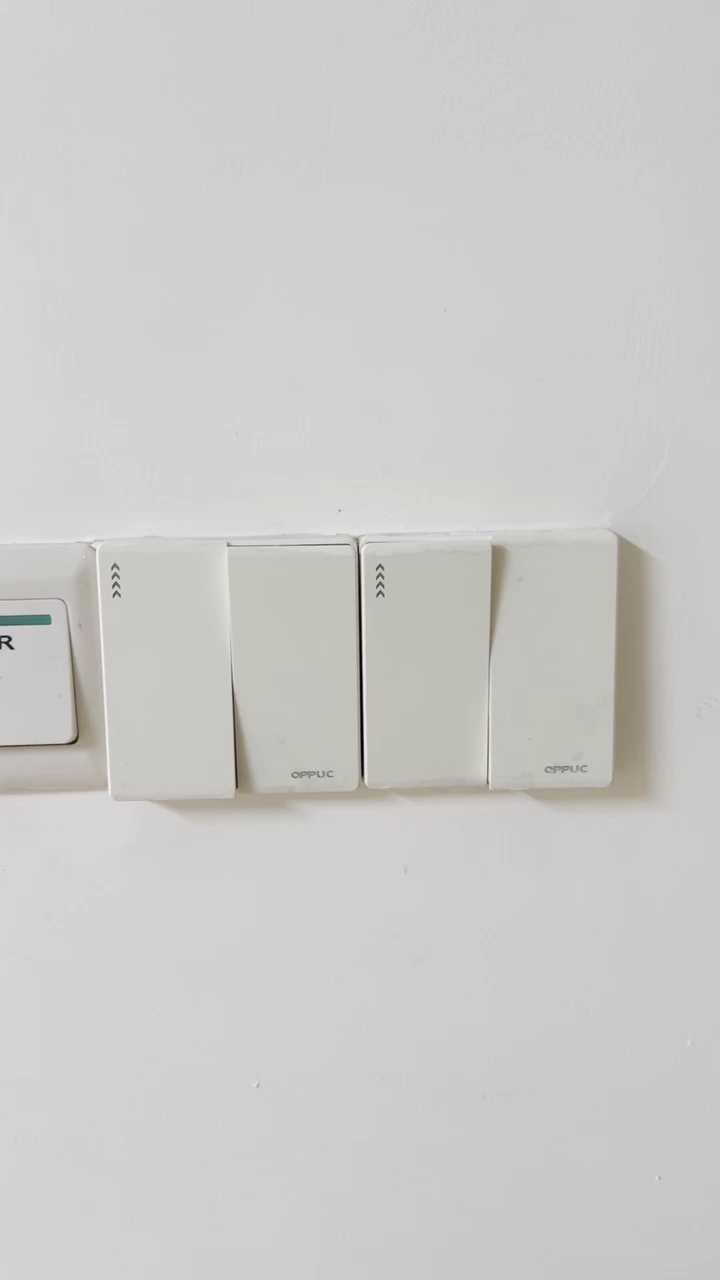button1: (98, 544, 233, 800), (233, 551, 358, 794), (493, 542, 615, 784), (368, 549, 486, 787)
